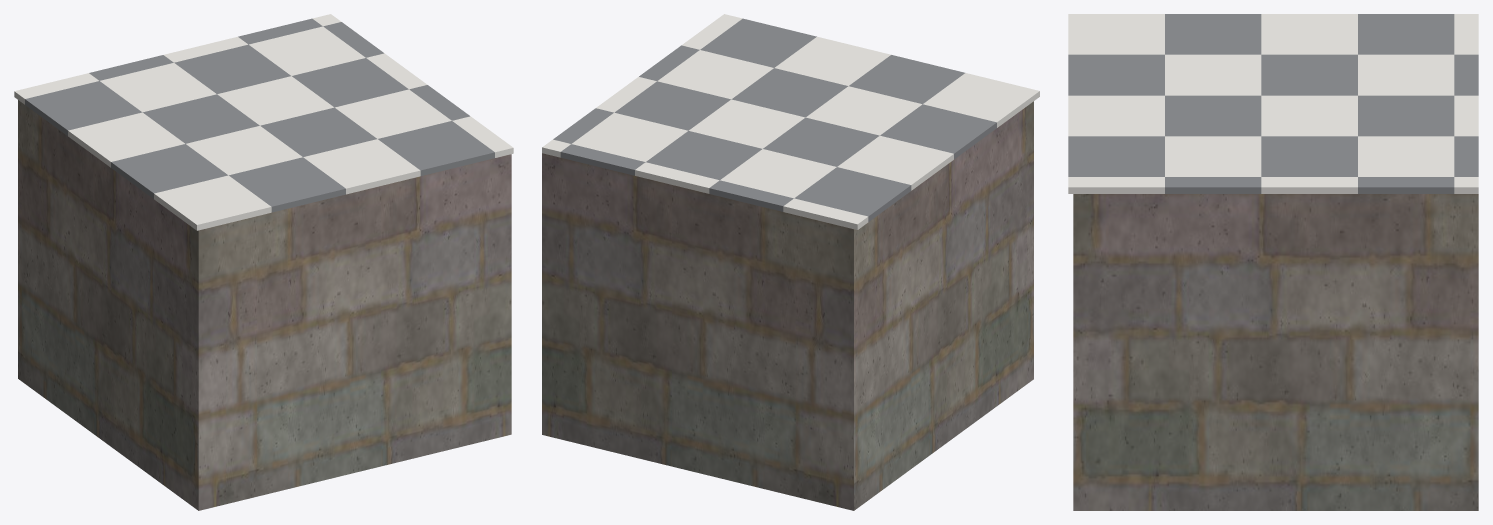
Rendered from floor_hall_g_e0_30_30_0.glb.
The picture shows the model from 3 angles, left to right: view 1: azimuth 30°, elevation 25°; view 2: azimuth 150°, elevation 25°; view 3: azimuth 270°, elevation 25°; orthographic projection. The views are drawn at different scales.
Parts seen in each view (by area): view 1: floor_hall_g_e0_30_30_0_plinth, floor_hall_g_e0_30_30_0_marble, floor_hall_g_e0_30_30_0_slate; view 2: floor_hall_g_e0_30_30_0_plinth, floor_hall_g_e0_30_30_0_marble, floor_hall_g_e0_30_30_0_slate; view 3: floor_hall_g_e0_30_30_0_plinth, floor_hall_g_e0_30_30_0_marble, floor_hall_g_e0_30_30_0_slate.
Boxes of the visible parts, x1,y1,x2,y2 form: floor_hall_g_e0_30_30_0_plinth: (18, 100, 511, 510); floor_hall_g_e0_30_30_0_marble: (14, 14, 513, 230); floor_hall_g_e0_30_30_0_slate: (25, 18, 494, 212); floor_hall_g_e0_30_30_0_plinth: (542, 101, 1033, 510); floor_hall_g_e0_30_30_0_marble: (542, 14, 1039, 229); floor_hall_g_e0_30_30_0_slate: (553, 18, 996, 221); floor_hall_g_e0_30_30_0_plinth: (1073, 194, 1478, 510); floor_hall_g_e0_30_30_0_marble: (1068, 14, 1478, 193); floor_hall_g_e0_30_30_0_slate: (1068, 14, 1478, 193).
Bounding box in the file's own units: 1.7 × 1.48 × 1.7.
3 materials, 1 textured.
